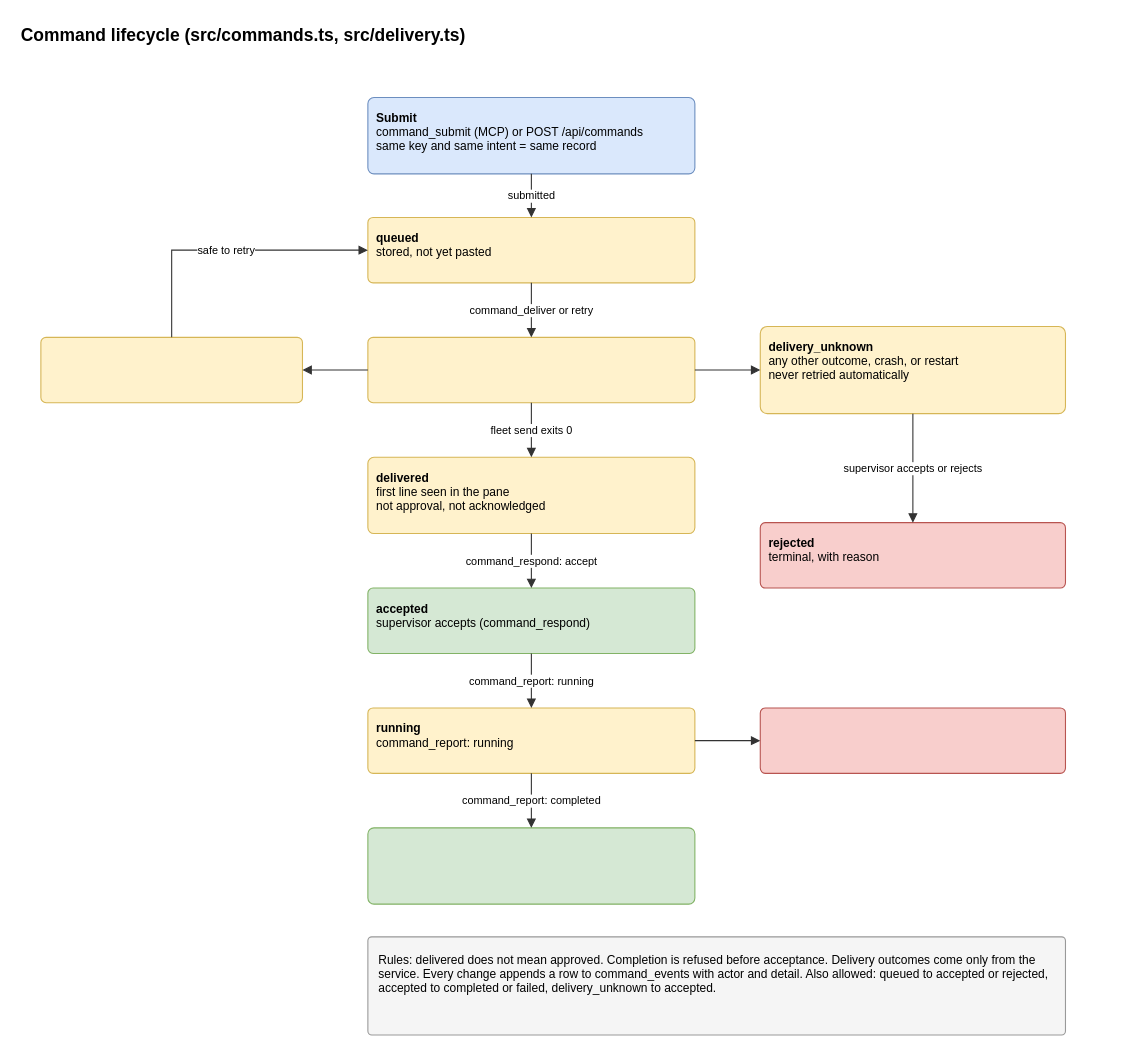
Some shapes in this 1127 by 1054 pixel diagram are drawn without their labels. The shapes that lost their labels are listed below. From the top down, each one's box as (x1, y1, x2, y2) in pixels, then its label:
(40, 336, 302, 403): refused before paste not sent, or no session
(367, 336, 695, 403): delivering fleet send in progress
(759, 707, 1065, 773): failed command_report: failed, with evidence
(367, 827, 695, 904): completed command_report: completed, with evidence
